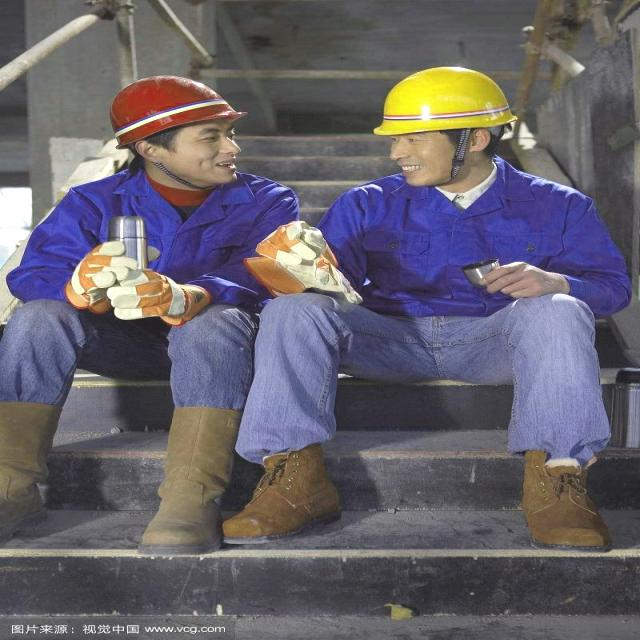boots: (126, 419, 240, 556)
face_nomask: (150, 127, 250, 179), (373, 130, 458, 187)
hand_glove: (108, 269, 210, 327), (268, 223, 346, 294), (70, 236, 139, 307)
hand_noglove: (474, 258, 574, 307)
head_helmet: (366, 66, 523, 136), (110, 74, 248, 148)
person: (286, 65, 609, 542), (9, 80, 292, 538)
shoes: (221, 447, 341, 547), (506, 447, 616, 554)
